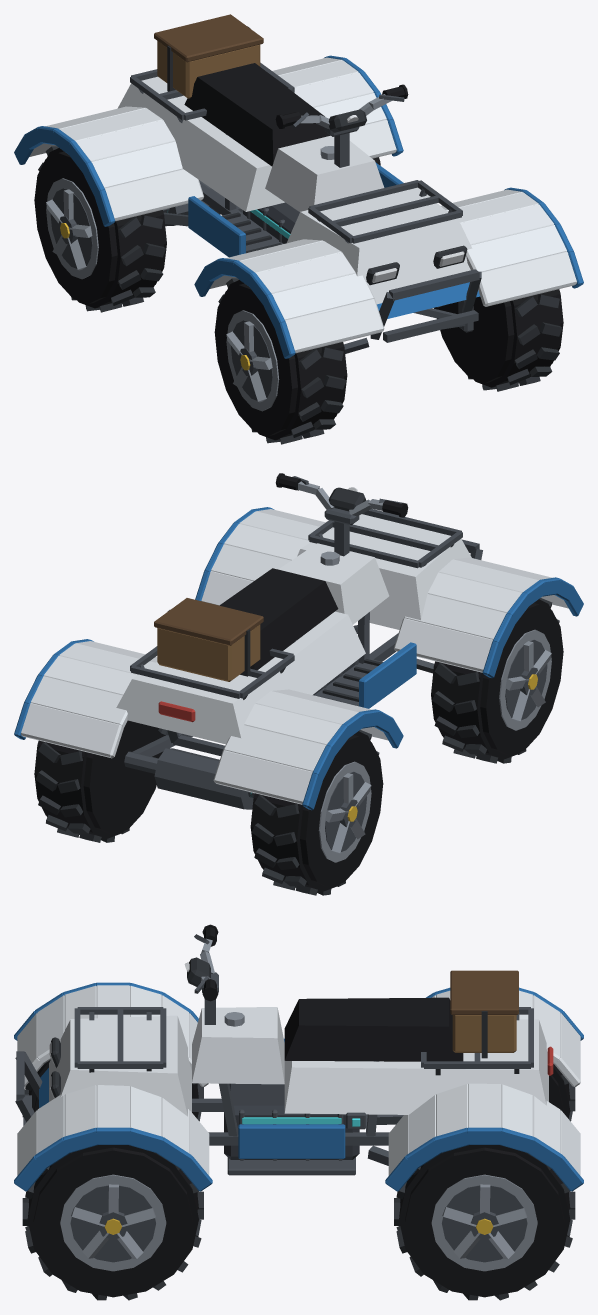
File: quad_electrique.glb
The picture shows the model from 3 angles, top to bottom: view 1: azimuth 30°, elevation 25°; view 2: azimuth 150°, elevation 25°; view 3: azimuth 270°, elevation 25°; orthographic projection. The views are drawn at different scales.
Parts seen in each view (by area): view 1: pieces_vert.002, pieces_acier_sombre.002, pieces_vert_fonce.002, pieces_noir.002, roue_avg_noir.002, roue_arg_noir.002, roue_avd_noir.002, pieces_bois_sombre.002, roue_arg_acier.002, roue_avg_acier.002, pieces_bois.002, roue_avg_fonte.002 (+8 smaller); view 2: pieces_vert.002, pieces_acier_sombre.002, pieces_vert_fonce.002, roue_ard_noir.002, roue_avg_noir.002, roue_arg_noir.002, pieces_noir.002, pieces_bois.002, pieces_bois_sombre.002, roue_arg_acier.002, roue_avg_acier.002, roue_avg_fonte.002 (+6 smaller); view 3: pieces_vert.002, pieces_vert_fonce.002, roue_avd_noir.002, roue_ard_noir.002, pieces_acier_sombre.002, pieces_noir.002, roue_avd_acier.002, roue_ard_acier.002, roue_avd_acier_sombre.002, roue_ard_acier_sombre.002, pieces_bois_sombre.002, pieces_quad_batterie.002 (+7 smaller).
Part boxes in pixels (<box>): pieces_vert.002: <box>29,57,576,353</box>; pieces_acier_sombre.002: <box>130,62,481,353</box>; pieces_vert_fonce.002: <box>14,55,583,358</box>; pieces_noir.002: <box>184,63,408,166</box>; roue_avg_noir.002: <box>214,280,347,440</box>; roue_arg_noir.002: <box>34,148,166,308</box>; roue_avd_noir.002: <box>434,289,563,387</box>; pieces_bois_sombre.002: <box>154,14,263,62</box>; roue_arg_acier.002: <box>46,178,98,279</box>; roue_avg_acier.002: <box>226,310,279,411</box>; pieces_bois.002: <box>157,41,260,98</box>; roue_avg_fonte.002: <box>218,278,345,444</box>; pieces_vert.002: <box>21,509,568,804</box>; pieces_acier_sombre.002: <box>124,476,482,809</box>; pieces_vert_fonce.002: <box>14,507,583,810</box>; roue_ard_noir.002: <box>34,720,165,838</box>; roue_avg_noir.002: <box>431,599,563,759</box>; roue_arg_noir.002: <box>250,731,383,891</box>; pieces_noir.002: <box>219,473,408,670</box>; pieces_bois.002: <box>157,624,260,681</box>; pieces_bois_sombre.002: <box>154,598,263,645</box>; roue_arg_acier.002: <box>318,761,371,862</box>; roue_avg_acier.002: <box>499,629,551,730</box>; roue_avg_fonte.002: <box>432,598,559,763</box>; pieces_vert.002: <box>17,985,580,1175</box>; pieces_vert_fonce.002: <box>14,982,583,1191</box>; roue_avd_noir.002: <box>27,1145,198,1297</box>; roue_ard_noir.002: <box>399,1145,570,1297</box>; pieces_acier_sombre.002: <box>15,934,533,1175</box>; pieces_noir.002: <box>202,924,463,1061</box>; roue_avd_acier.002: <box>60,1174,166,1271</box>; roue_ard_acier.002: <box>431,1174,537,1271</box>; roue_avd_acier_sombre.002: <box>70,1185,155,1262</box>; roue_ard_acier_sombre.002: <box>442,1185,527,1262</box>; pieces_bois_sombre.002: <box>450,970,518,1014</box>; pieces_quad_batterie.002: <box>224,1083,359,1159</box>.
Size of the model in its own units: 1.23 by 1.09 by 2.
